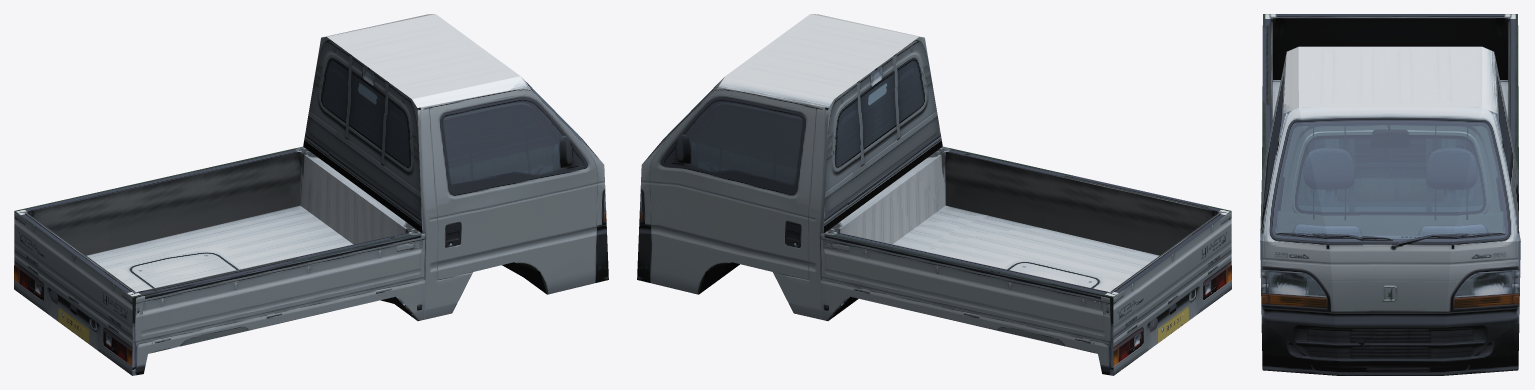
The model's file is acty.glb.
3 views of the same model, side by side, from view 1: azimuth 30°, elevation 25°; view 2: azimuth 150°, elevation 25°; view 3: azimuth 270°, elevation 25° (orthographic). The views are drawn at different scales.
Parts seen in each view (by area): view 1: Cube; view 2: Cube; view 3: Cube.
Boxes of the visible parts, x1=… form: Cube: x1=14, y1=14, x2=608, y2=375; Cube: x1=637, y1=14, x2=1231, y2=375; Cube: x1=1260, y1=14, x2=1520, y2=375.
Bounding box in the file's own units: 3.3 × 1.38 × 1.42.
Materials: 1 (1 with a texture image).
